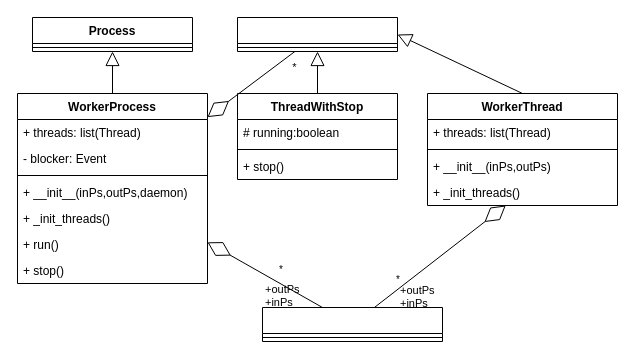
The diagram is 635 pixels wide and 359 high, and some of its shapes have lost their labels. The centre of each missing label's shape, as x and y in pixels:
multiprocessing.Connection: the point at 352,324
Thread: the point at 317,34
